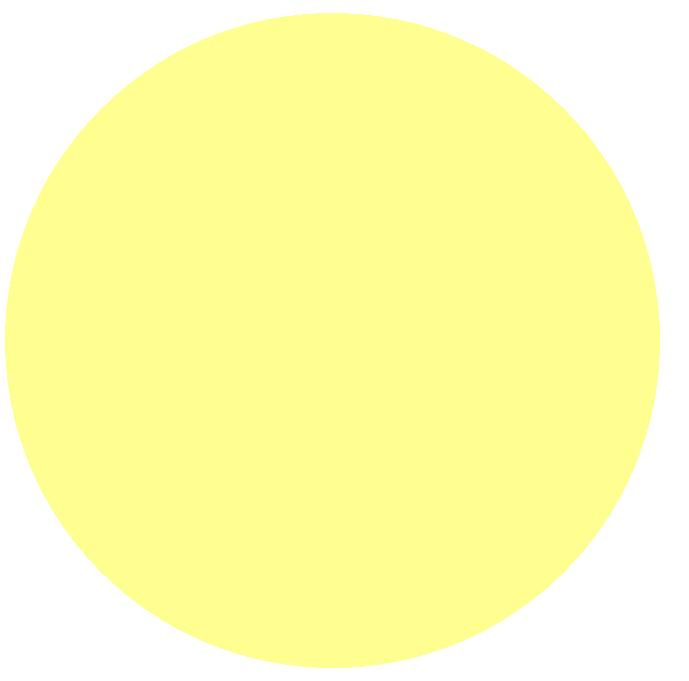yellow_circle: (0, 16, 664, 679)
